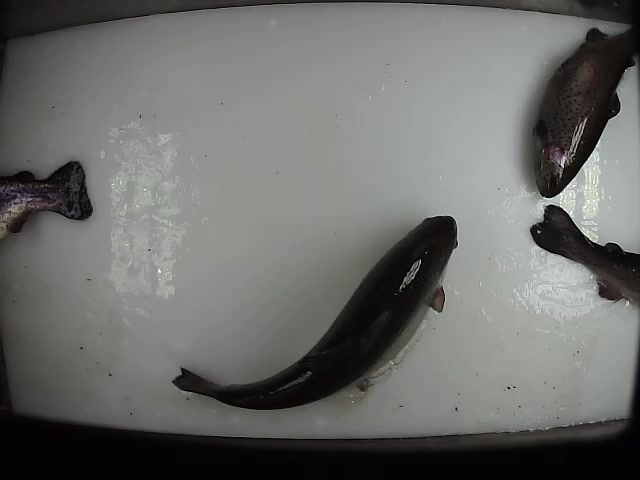fish: (171, 211, 463, 413)
